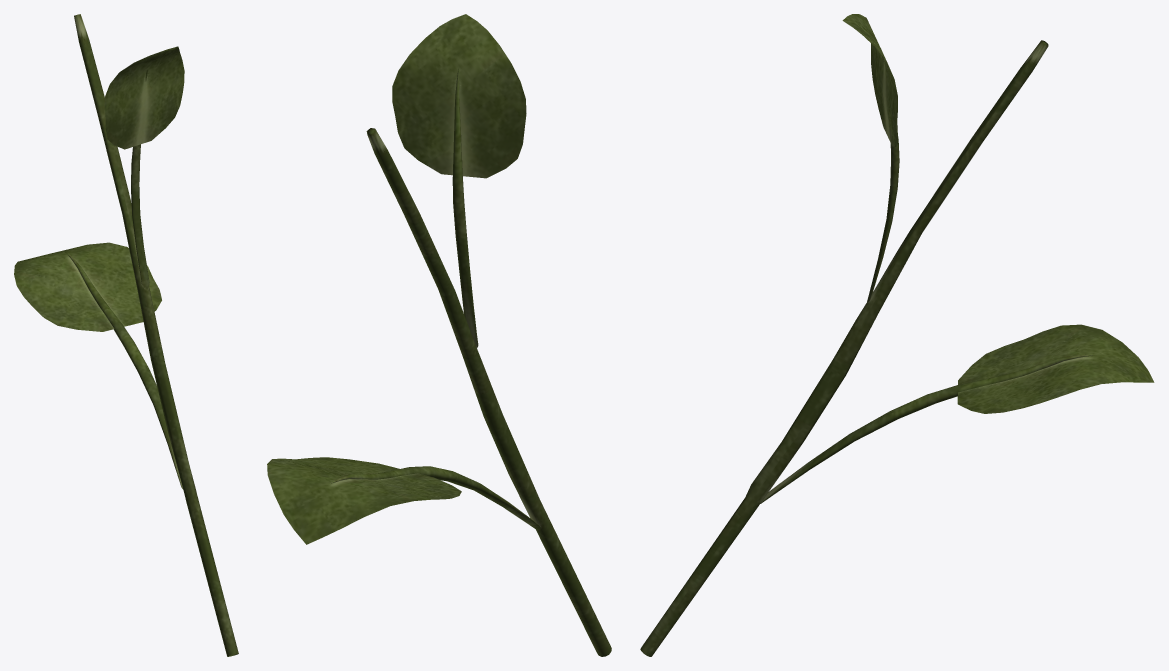
File: rose-leaves.glb
The picture shows the model from 3 angles, left to right: view 1: azimuth 30°, elevation 25°; view 2: azimuth 150°, elevation 25°; view 3: azimuth 270°, elevation 25°; orthographic projection. The views are drawn at different scales.
Visible parts, largest first — view 1: rose-leaves; view 2: rose-leaves; view 3: rose-leaves.
Part boxes in pixels (left/top/right/bottom): rose-leaves: left=14, top=14, right=238, bottom=656; rose-leaves: left=267, top=14, right=611, bottom=656; rose-leaves: left=640, top=14, right=1154, bottom=656.
Bounding box in the file's own units: 0.2388 × 1 × 0.7183.
1 material, 1 textured.
